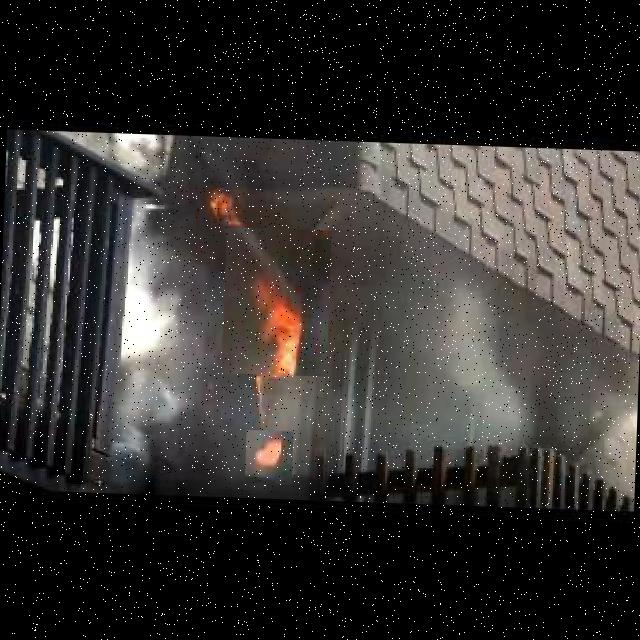fire: (221, 226, 331, 376), (201, 178, 247, 236), (244, 430, 293, 484)
